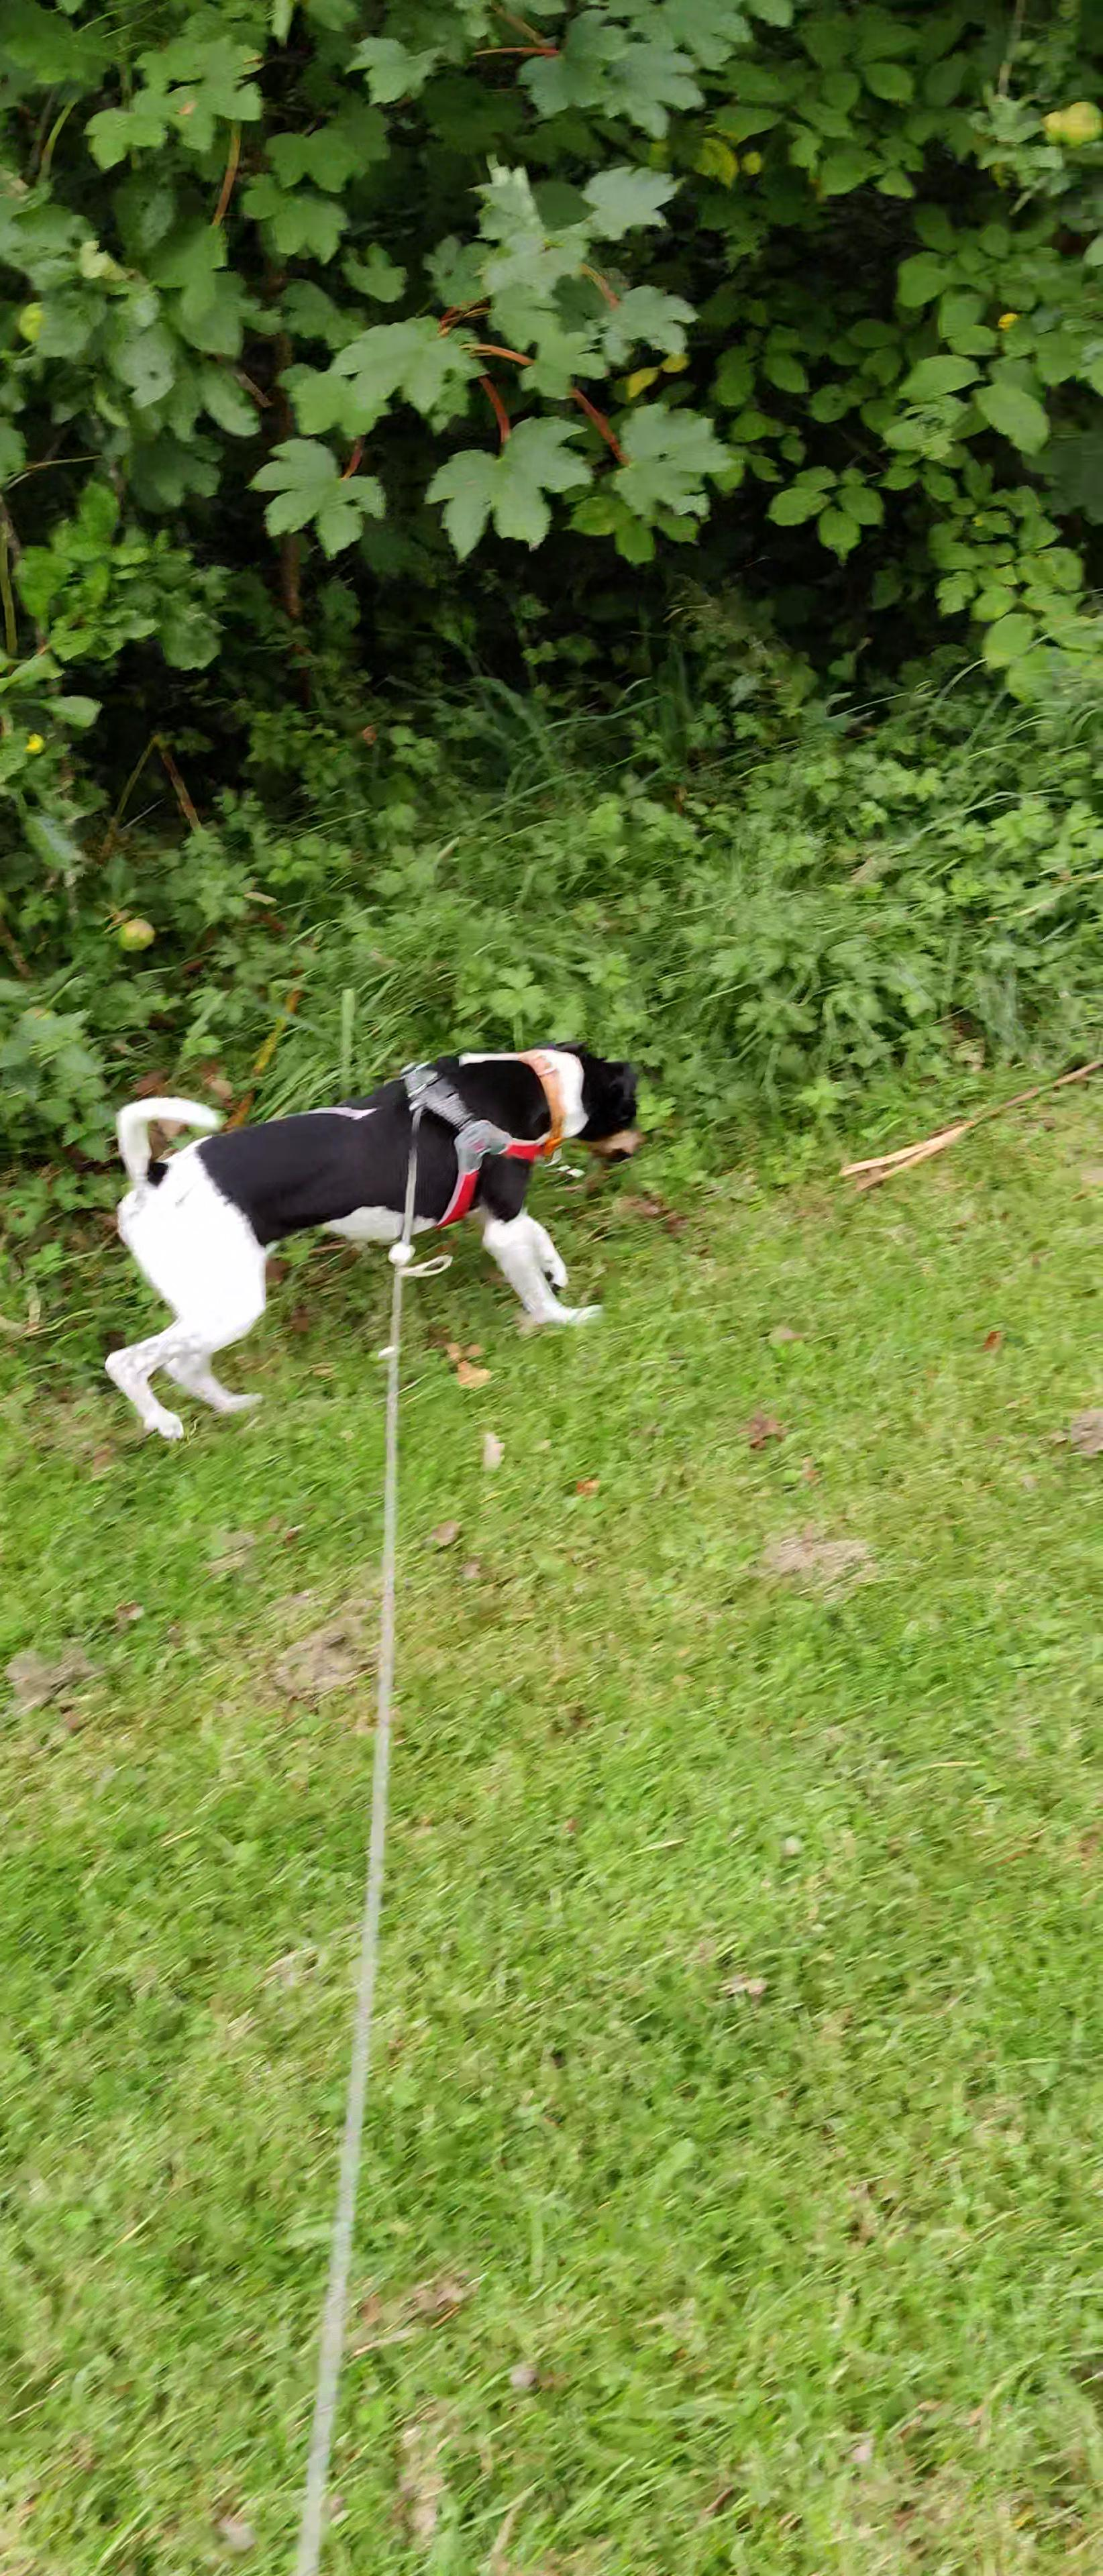Dog: (90, 1025, 654, 1447)
